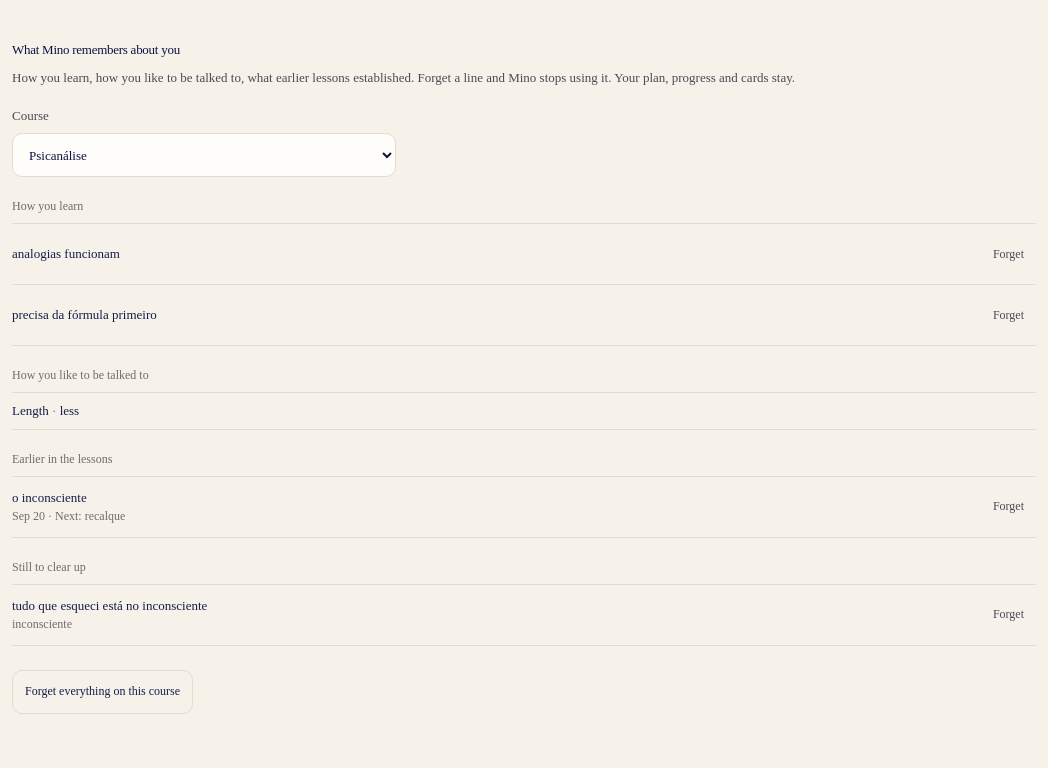
Test case: MemorySection › re-reads memory when another course is picked
The image size is (1048, 768).
expect the text "analogias funcionam" is shown: met, box [12,244,120,264]
Select "Filosofia" in the dropdown at (204, 155), box [12,133,396,177]
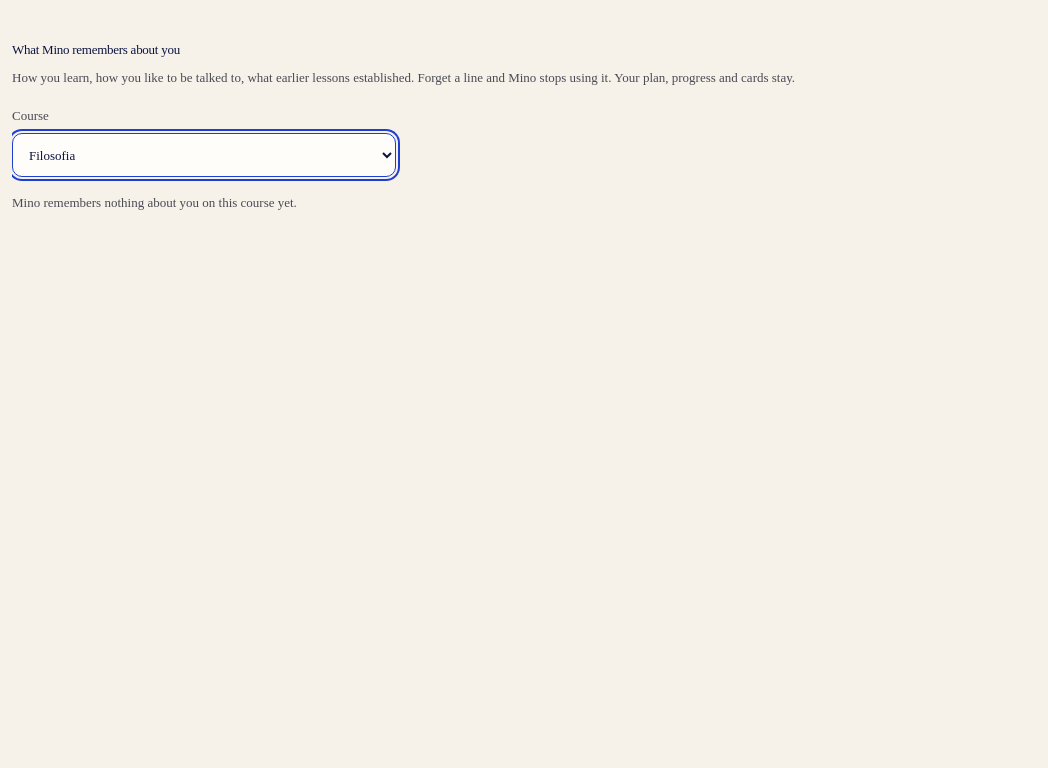
expect the text "Mino remembers nothing about you on this course yet." is shown: met, box [12,195,297,210]
expect the text "analogias funcionam" is gone: met
